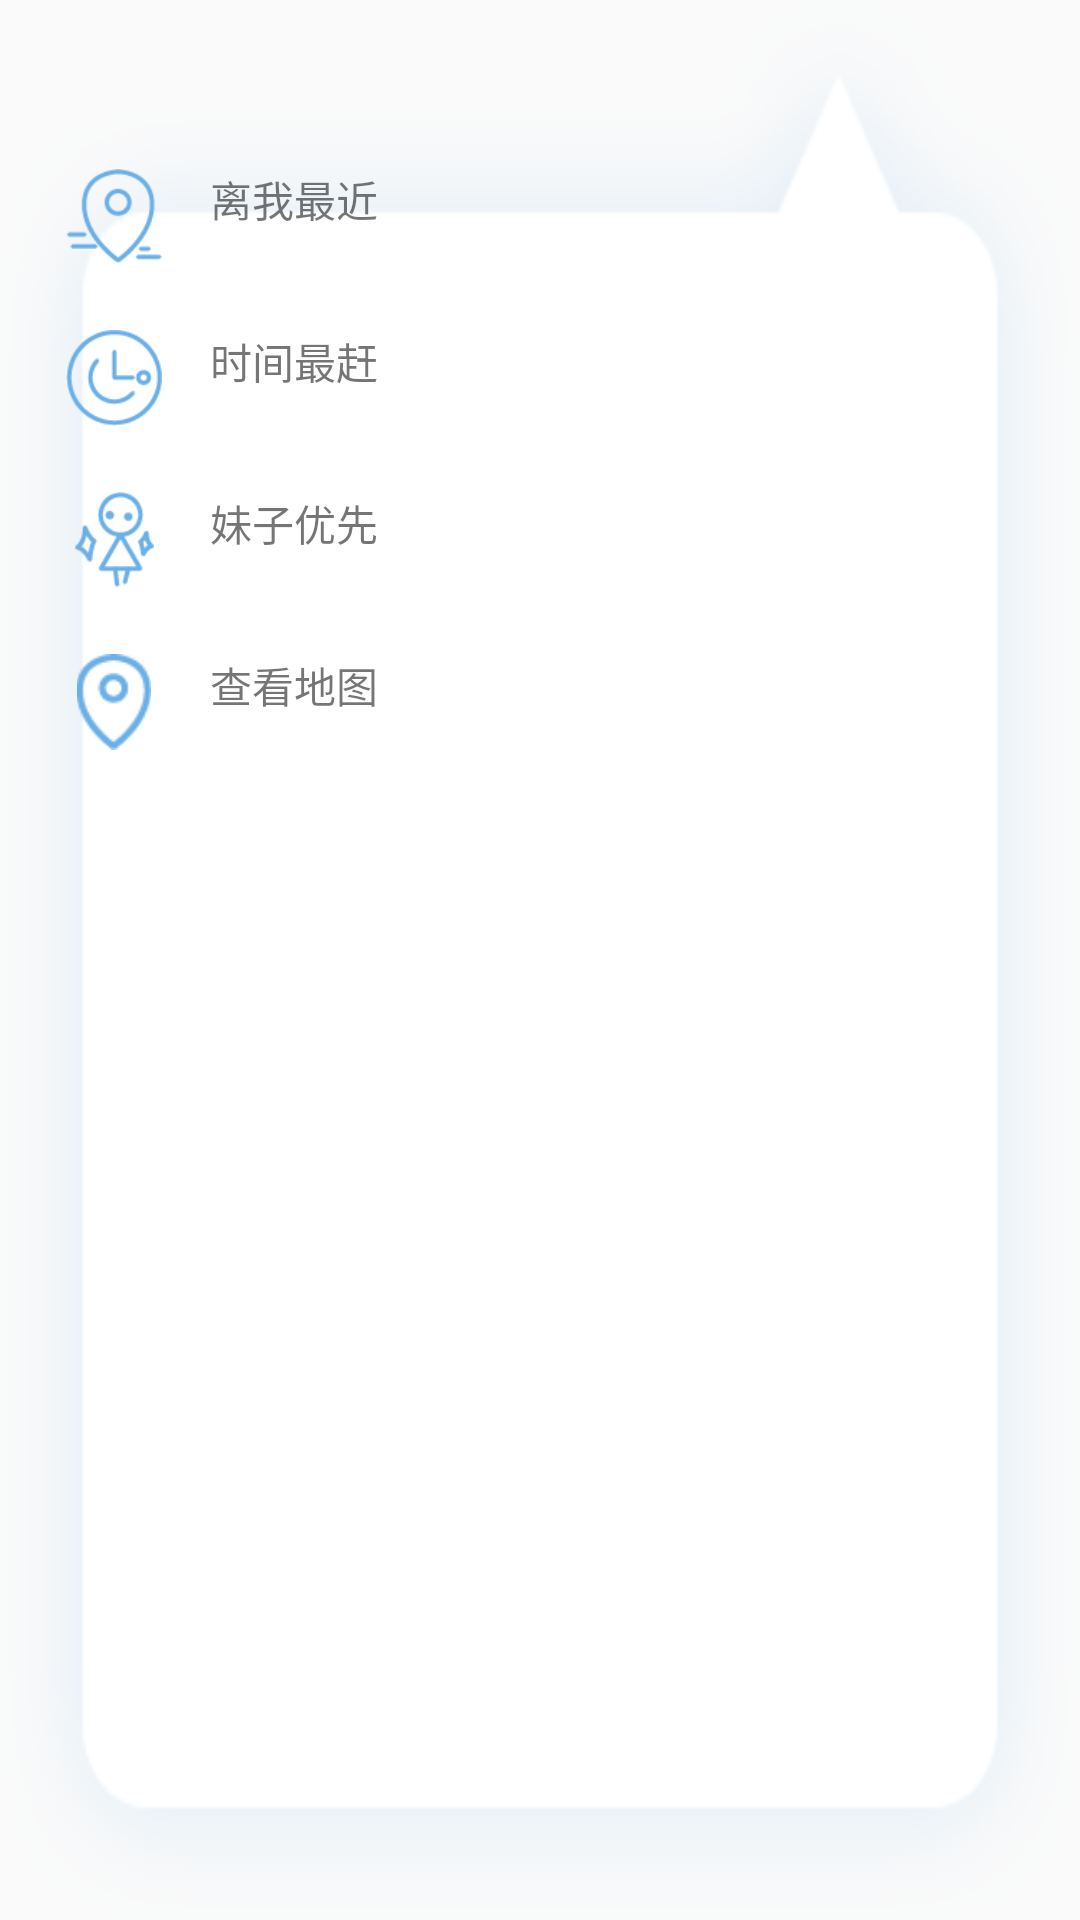

Named icons in this screenshot (1080w x 1920h) and their centers, (x=x, y=y):
iconplace: (x=114, y=702)
sortgirl: (x=114, y=539)
sortplace: (x=114, y=216)
sorttime: (x=114, y=378)
